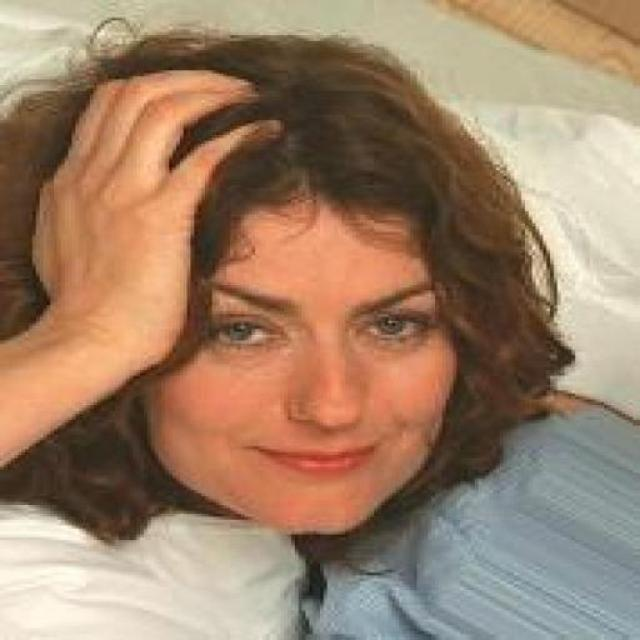bareface: (114, 155, 460, 524)
